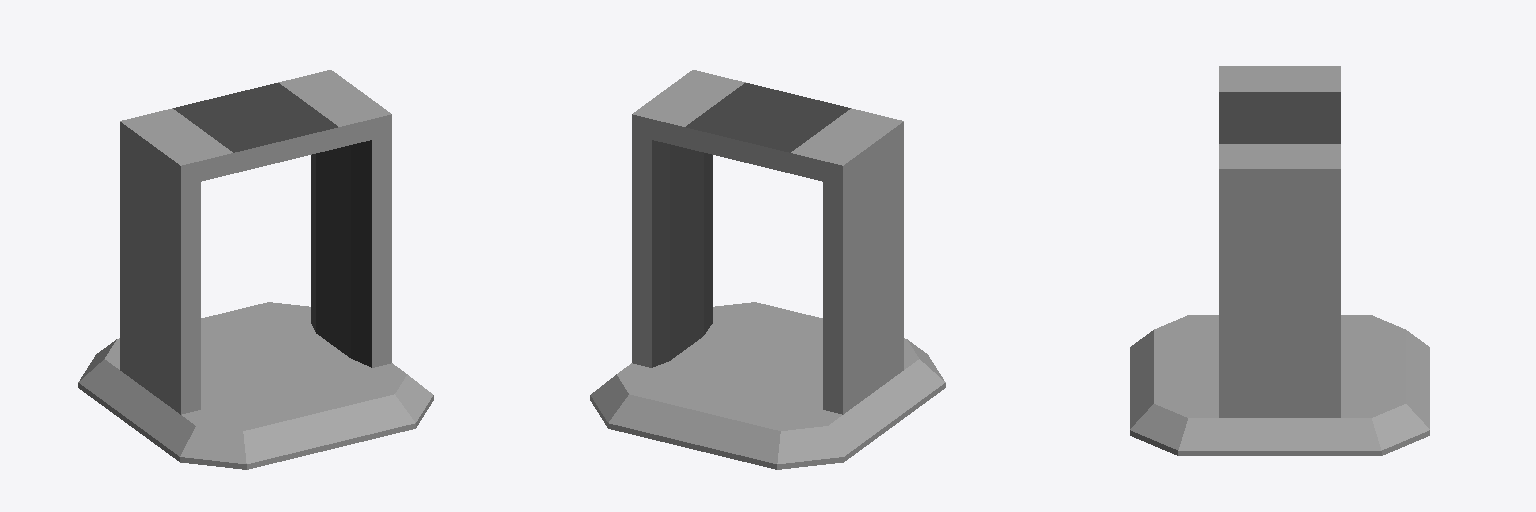
File: teleporter-frame.obj
The picture shows the model from 3 angles: view 1: azimuth 30°, elevation 25°; view 2: azimuth 150°, elevation 25°; view 3: azimuth 270°, elevation 25°; orthographic projection.
Visible parts, largest first — view 1: Mesh1 Teleporter__Frame1 Model; view 2: Mesh1 Teleporter__Frame1 Model; view 3: Mesh1 Teleporter__Frame1 Model.
Part boxes in pixels (x1,y1,x2,y2): Mesh1 Teleporter__Frame1 Model: (78,70,433,469); Mesh1 Teleporter__Frame1 Model: (590,70,945,469); Mesh1 Teleporter__Frame1 Model: (1130,66,1429,455).
Bounding box in the file's own units: 1.2 × 1.25 × 1.23.